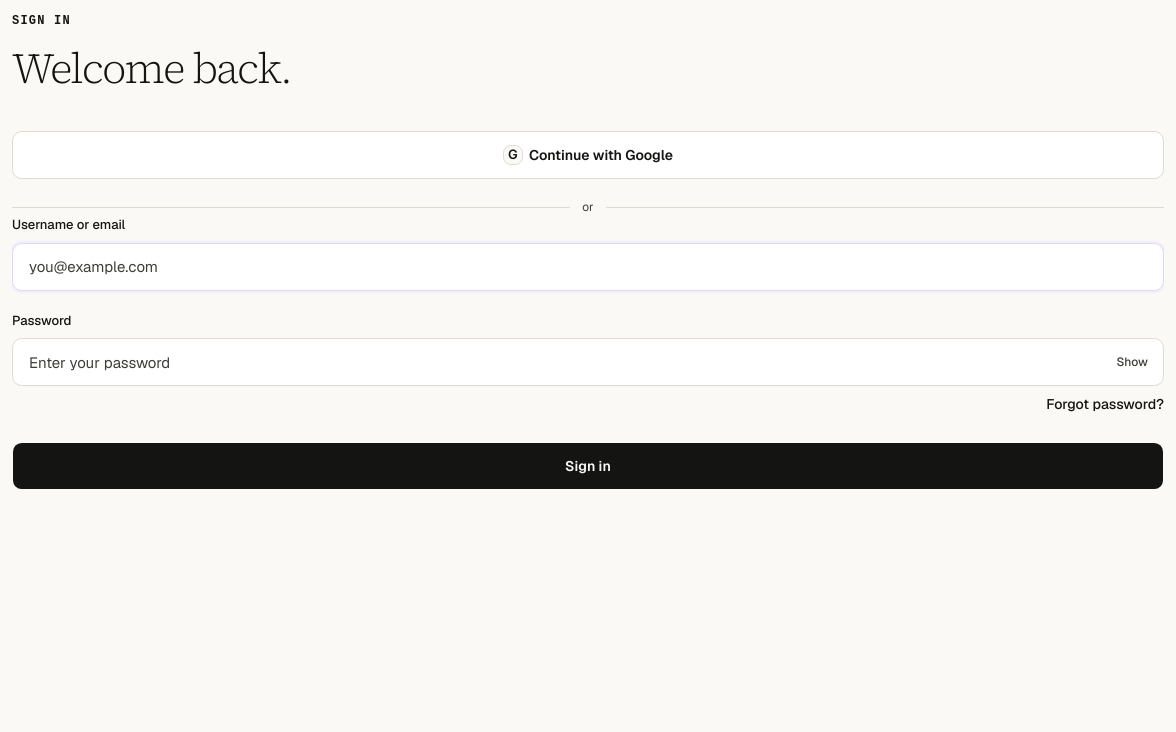
Test: LoginForm › renders and toasts root server errors
The width and height of the screenshot is (1176, 732).
Type "user@example.com" into the field labelled "Username or email" at (588, 266), box [12,242,1164,290]
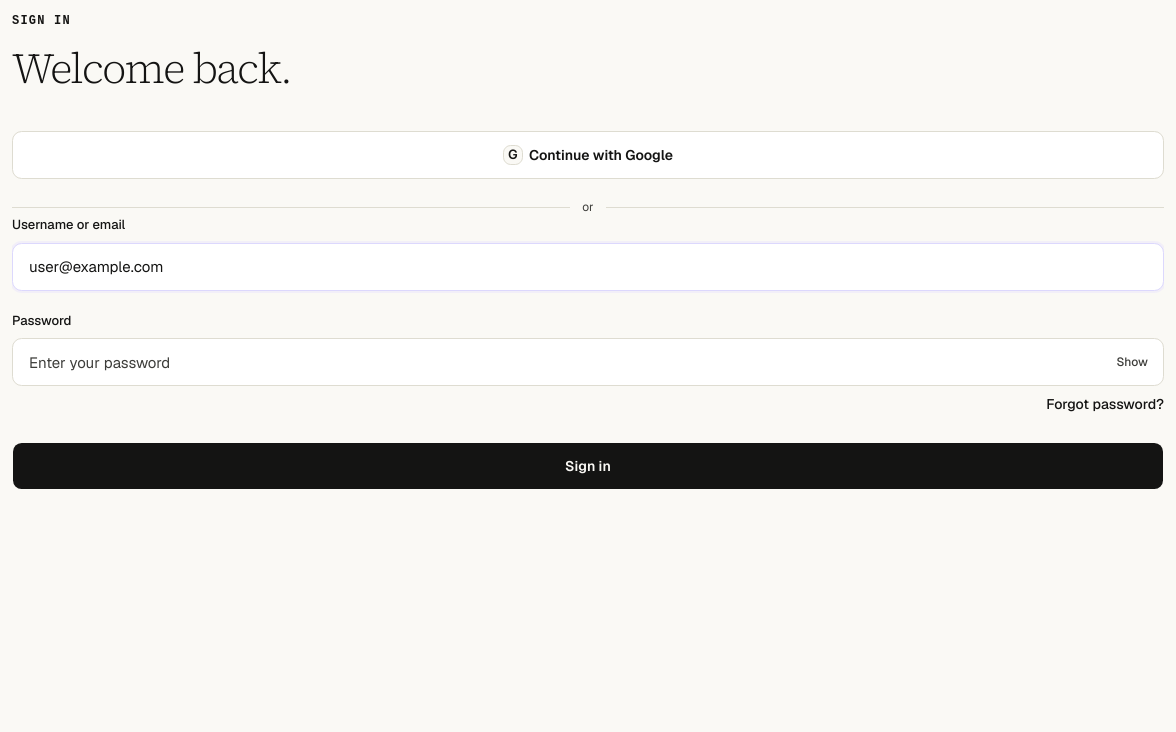
Type "Password1!" into the password field labelled "Password" at (588, 362), box [12,338,1164,386]
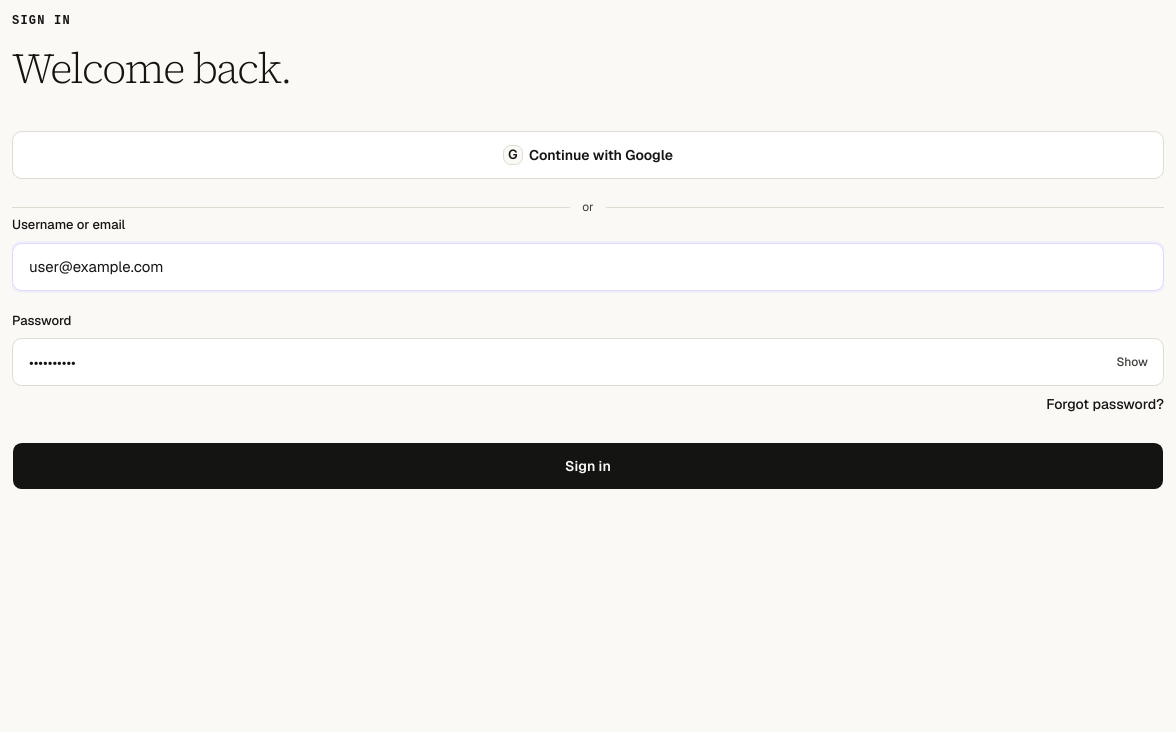
Submit the form "Sign in", box [12,215,1164,490]
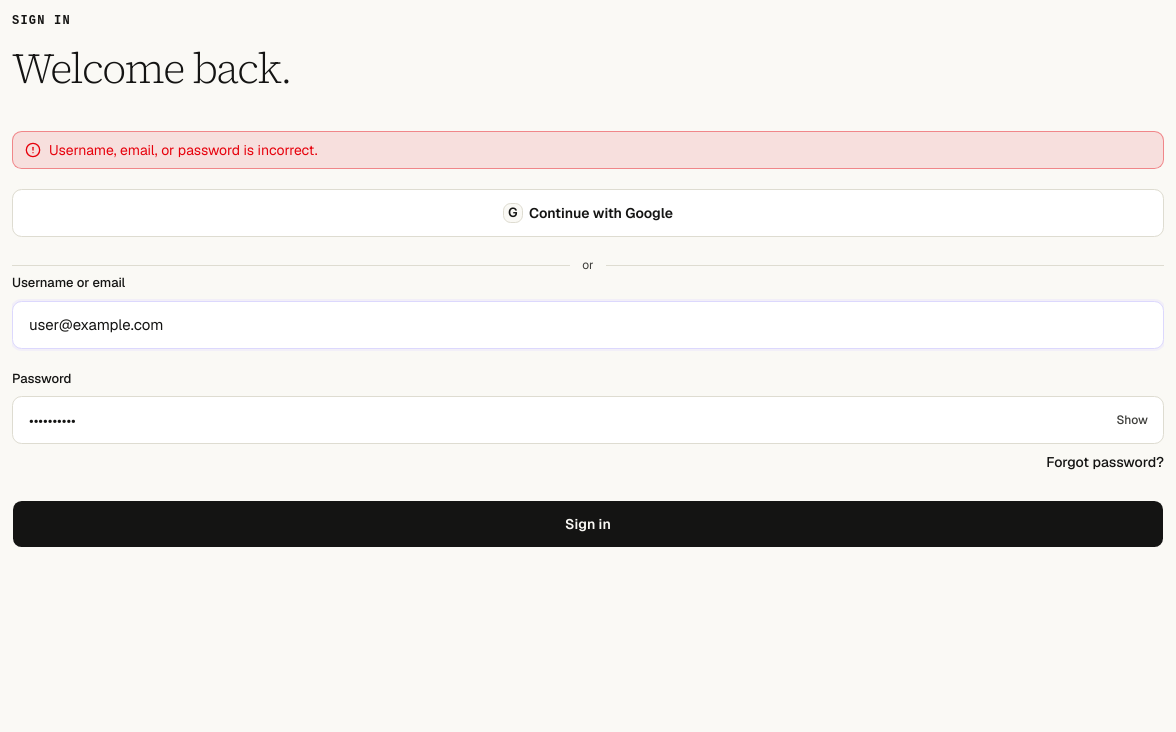
Check: the message reads "Username, email, or password is incorrect.", box [49,141,318,159]
